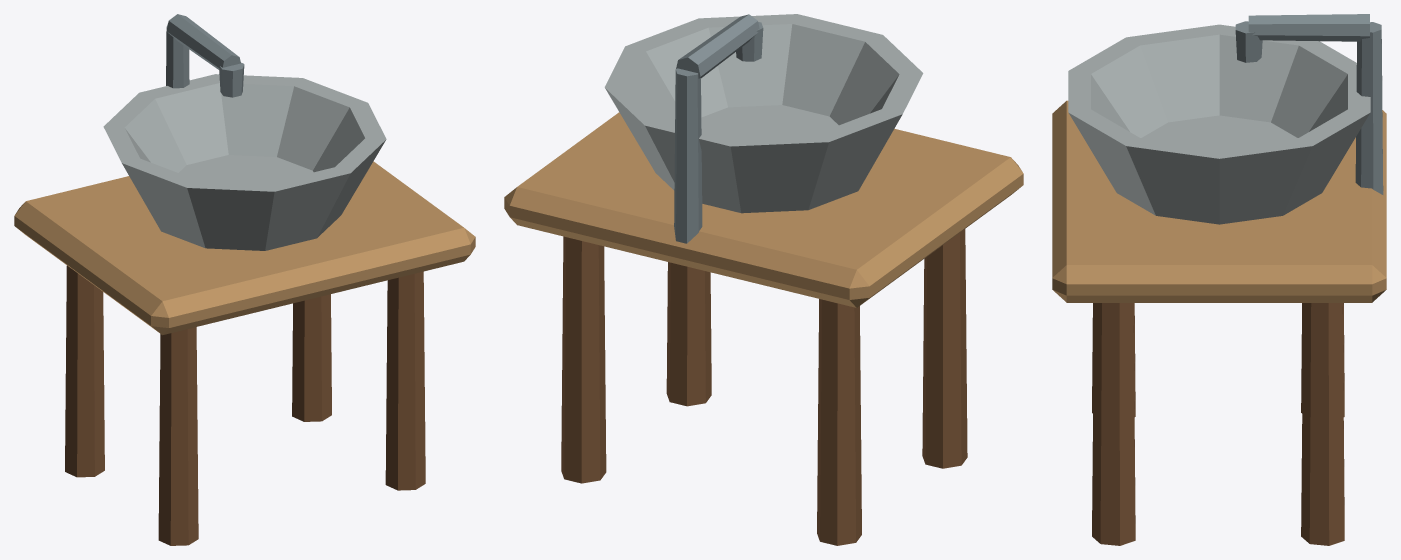
File: CC_Washbasin.fbx
The picture shows the model from 3 angles, left to right: view 1: azimuth 30°, elevation 25°; view 2: azimuth 150°, elevation 25°; view 3: azimuth 270°, elevation 25°; orthographic projection. The views are drawn at different scales.
Parts seen in each view (by area): view 1: Basin, Counter, Leg.036, Leg.038, Leg.037, Leg.039, Tap spout, Tap riser, Tap outlet; view 2: Counter, Basin, Leg.039, Leg.037, Leg.036, Leg.038, Tap riser, Tap spout; view 3: Basin, Counter, Leg.039, Leg.038, Tap riser, Tap spout, Tap outlet, Leg.037.
Boxes of the visible parts, <box> form: Basin: <box>103,74,386,250</box>; Counter: <box>14,161,475,335</box>; Leg.036: <box>158,327,198,545</box>; Leg.038: <box>385,271,425,490</box>; Leg.037: <box>65,265,104,477</box>; Leg.039: <box>292,294,331,421</box>; Tap spout: <box>166,14,240,69</box>; Tap riser: <box>166,24,189,88</box>; Tap outlet: <box>219,62,244,97</box>; Counter: <box>504,112,1023,307</box>; Basin: <box>604,14,923,213</box>; Leg.039: <box>561,236,606,483</box>; Leg.037: <box>817,299,861,545</box>; Leg.036: <box>922,229,967,468</box>; Leg.038: <box>666,262,711,406</box>; Tap riser: <box>674,68,702,243</box>; Tap spout: <box>676,14,759,78</box>; Basin: <box>1068,24,1370,224</box>; Counter: <box>1052,100,1386,302</box>; Leg.039: <box>1301,303,1344,545</box>; Leg.038: <box>1092,303,1135,545</box>; Tap riser: <box>1355,22,1383,194</box>; Tap spout: <box>1248,14,1369,41</box>; Tap outlet: <box>1235,21,1262,62</box>; Leg.037: <box>1301,303,1344,416</box>.
Bounding box in the file's own units: 1 × 1.21 × 0.8.
